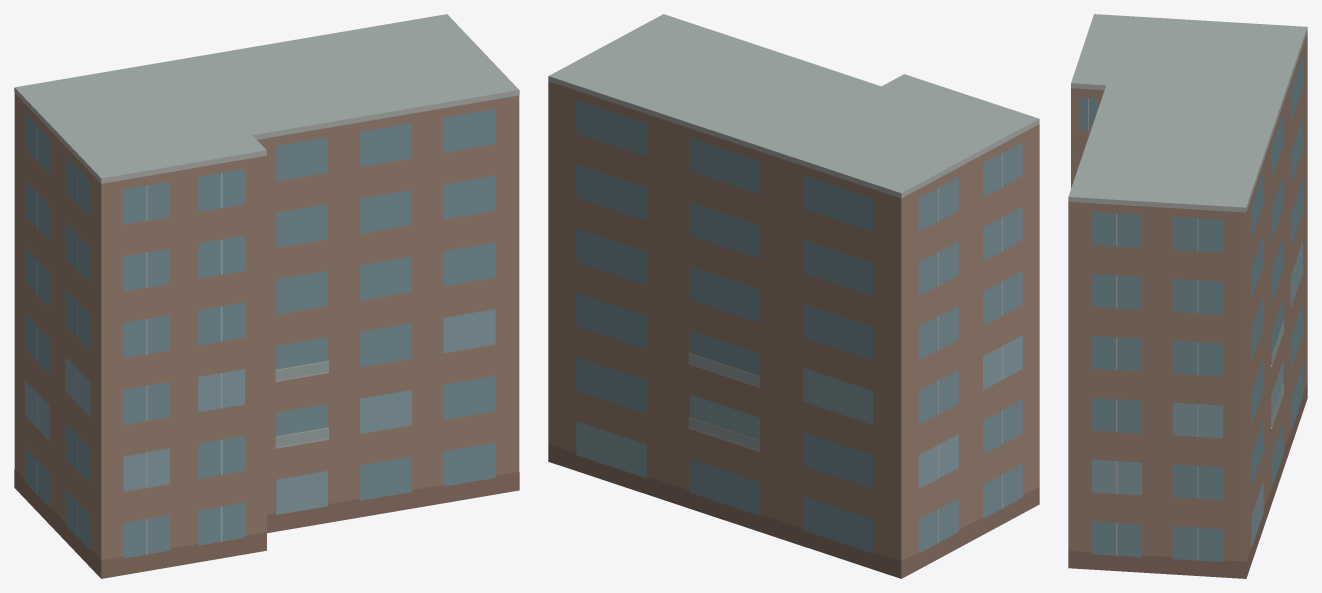
Rendered from survey-upis-32631109.glb.
3 views of the same model, side by side, from view 1: azimuth 30°, elevation 25°; view 2: azimuth 150°, elevation 25°; view 3: azimuth 270°, elevation 25° (orthographic). The views are drawn at different scales.
Visible parts, largest first — view 1: survey-upis-32631109.tmp; view 2: survey-upis-32631109.tmp; view 3: survey-upis-32631109.tmp.
Boxes of the visible parts, x1,y1,x2,y2 form: survey-upis-32631109.tmp: (14,14,519,578); survey-upis-32631109.tmp: (548,14,1039,578); survey-upis-32631109.tmp: (1068,14,1307,578).
Size of the model in its own units: 20.48 by 18.3 by 10.7.
